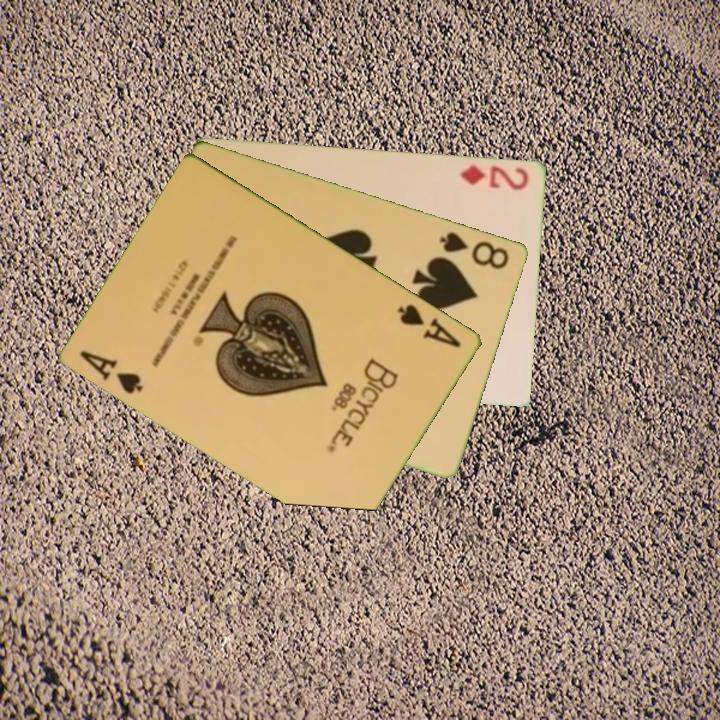2d: (457, 161, 532, 193)
8s: (436, 227, 513, 272)
As: (76, 346, 147, 397), (395, 300, 465, 351)
